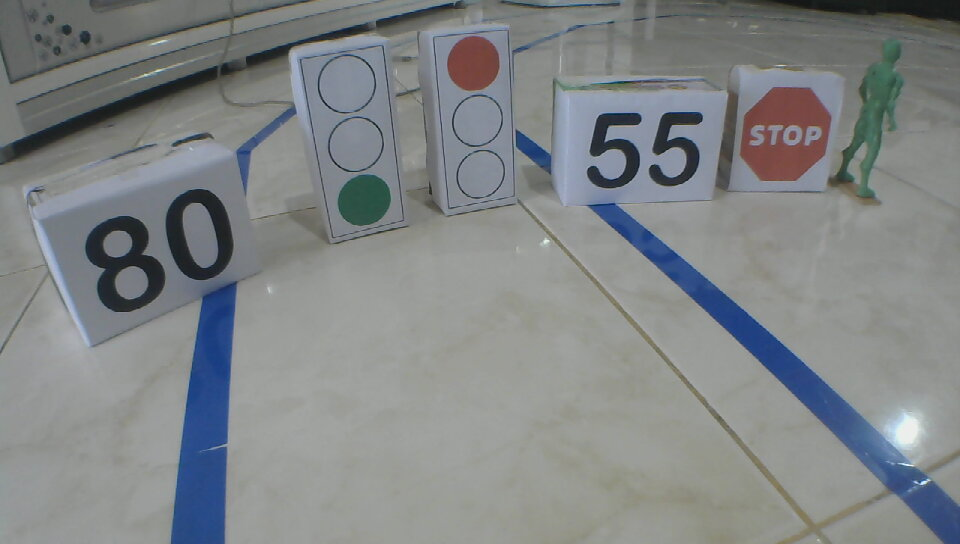Green Light: (315, 53, 393, 228)
Person: (838, 39, 908, 202)
Red Light: (446, 35, 505, 202)
Speed 55: (581, 108, 705, 190)
Speed 80: (82, 187, 235, 315)
Stop: (738, 87, 831, 182)
